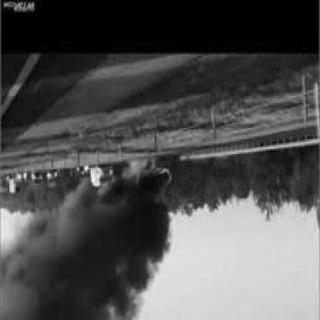Fire: (126, 156, 184, 202)
Smoke: (9, 199, 173, 319)
